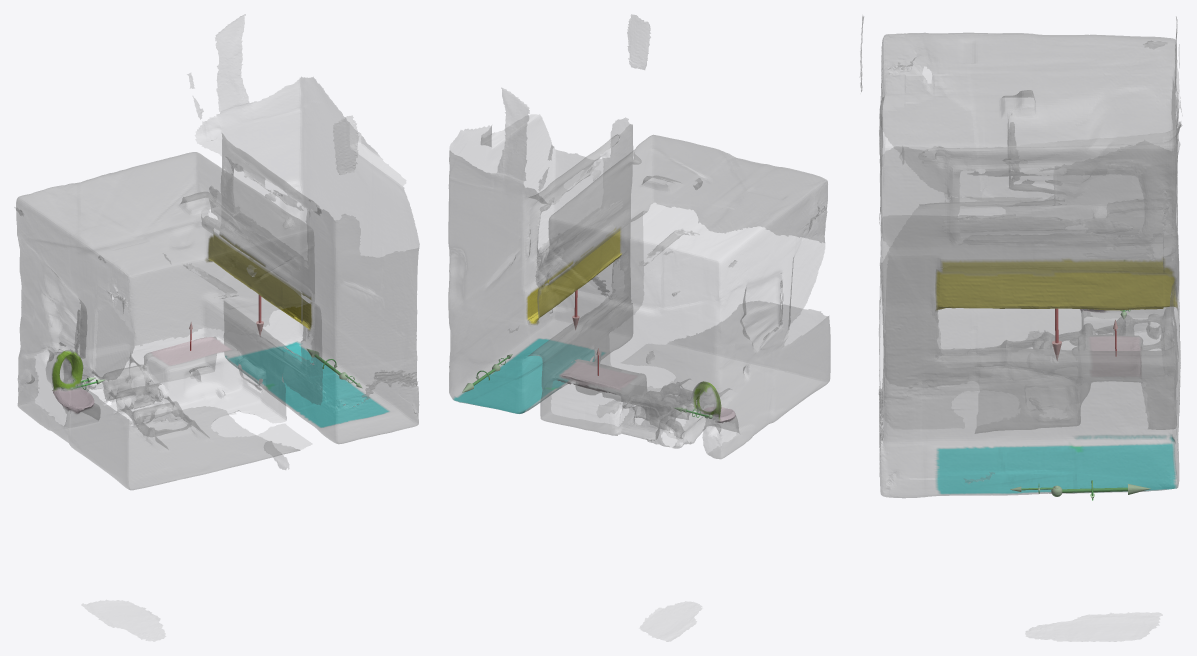
Rendered from scene_00119_02-articulation.compressed.gltf.
The picture shows the model from 3 angles, left to right: view 1: azimuth 30°, elevation 25°; view 2: azimuth 150°, elevation 25°; view 3: azimuth 270°, elevation 25°; orthographic projection. The views are drawn at different scales.
Bounding box in the file's own units: 3.83 × 6.58 × 2.73.
